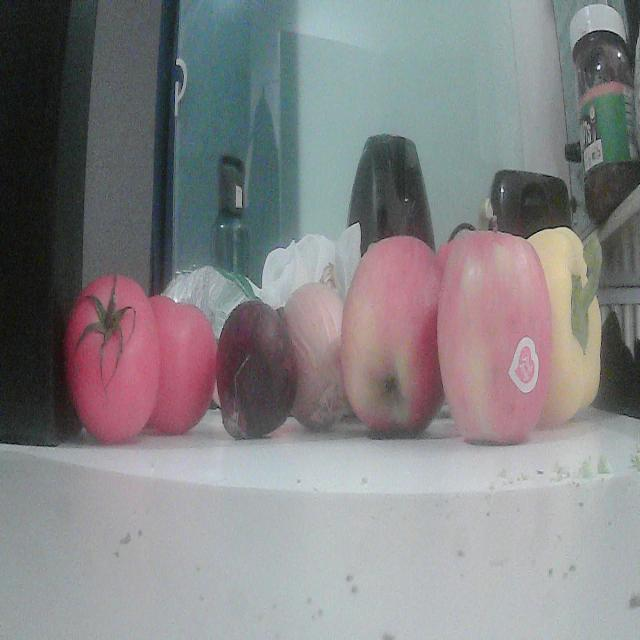Apple: (438, 231, 552, 444), (340, 236, 442, 428)
Bell Pepper: (528, 227, 606, 428)
Onion: (217, 300, 296, 438), (282, 284, 355, 429)
Tomato: (66, 275, 160, 444), (143, 295, 216, 435)
